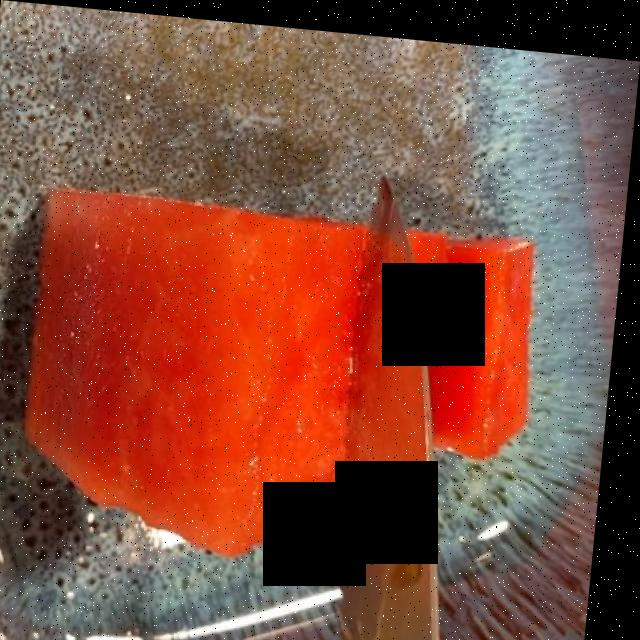watermelon-fresh: (39, 185, 542, 547)
